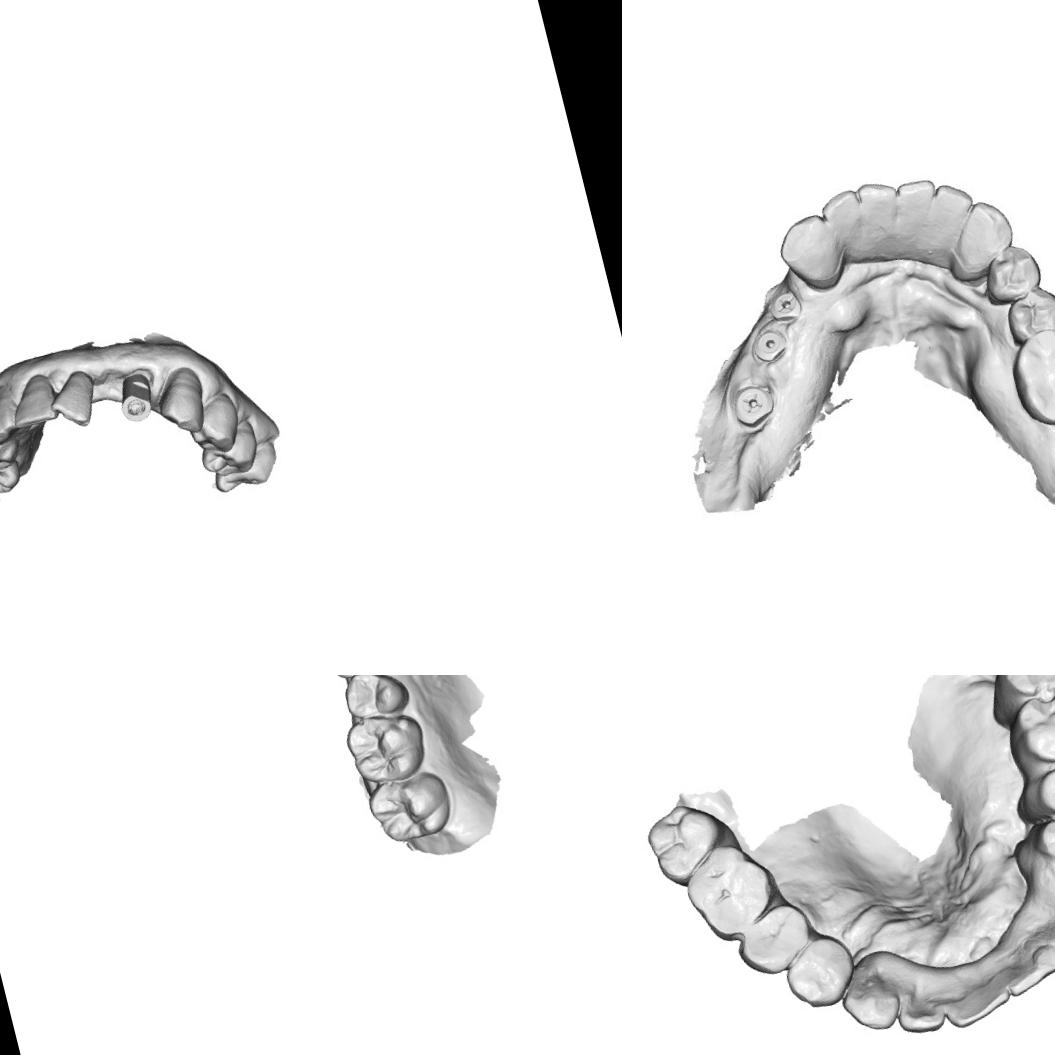canine: (769, 209, 848, 298), (830, 956, 906, 1040), (181, 390, 246, 458), (0, 380, 28, 447), (1038, 850, 1055, 922)
implant: (112, 366, 160, 426), (751, 326, 790, 365)
implant_plus: (728, 381, 776, 429), (766, 284, 808, 324)
incisor: (942, 192, 1022, 274), (933, 960, 1015, 1032), (882, 958, 948, 1042), (148, 361, 213, 440), (813, 184, 873, 260), (990, 931, 1055, 1001), (42, 365, 106, 434), (918, 176, 982, 238), (2, 368, 62, 432), (851, 172, 909, 238), (892, 170, 945, 235), (1029, 898, 1055, 961)
molar: (674, 831, 788, 948), (638, 794, 738, 893), (340, 706, 432, 790), (362, 766, 456, 848), (1002, 321, 1055, 432), (998, 683, 1055, 779), (982, 675, 1055, 709)
premolar: (728, 896, 822, 984), (774, 927, 864, 1017), (975, 238, 1049, 310), (194, 417, 263, 481), (996, 280, 1055, 344), (338, 675, 412, 724), (1019, 755, 1055, 827), (1027, 805, 1055, 869), (0, 407, 25, 476)
